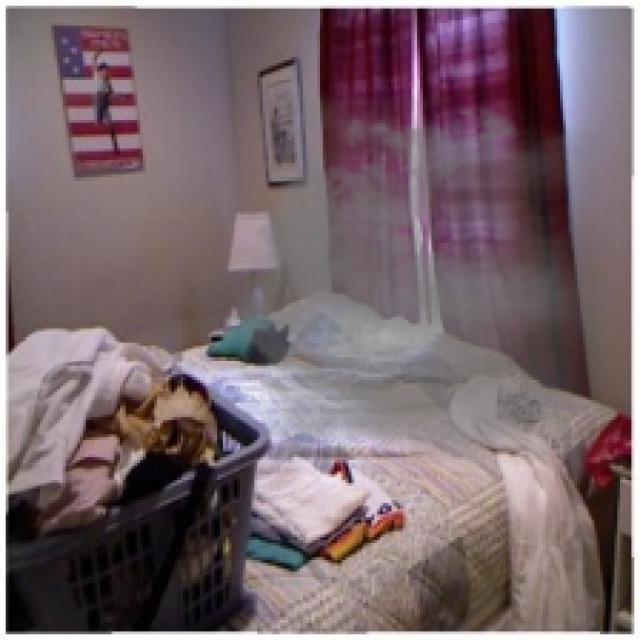Smoke: (208, 94, 612, 466)
